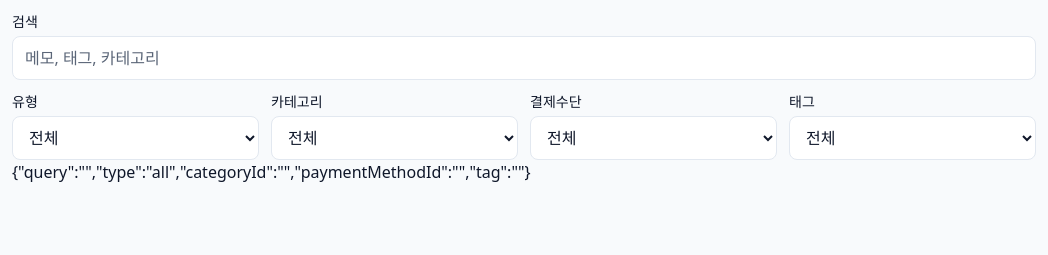
Scenario: TransactionFilterBar › 필터가 있을 때만 초기화 버튼을 보여 주고, 누르면 모두 비운다
Expected: the button "필터 초기화" is not shown
In the search field labelled "검색": coordinates (524, 58) [12, 36, 1036, 80], type "a"
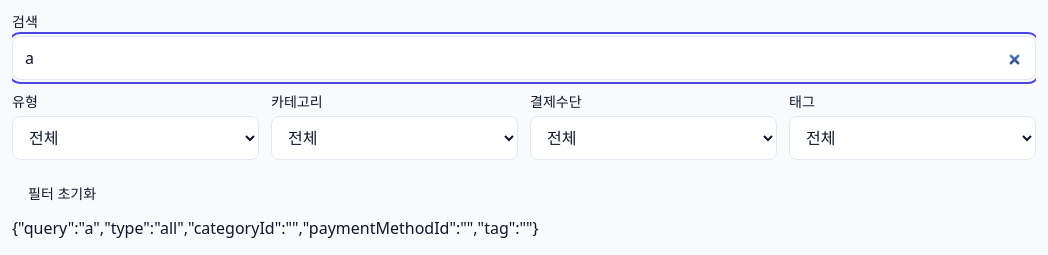
Select "수입" in the dropdown labelled "유형": coordinates (136, 138) [12, 116, 259, 160]
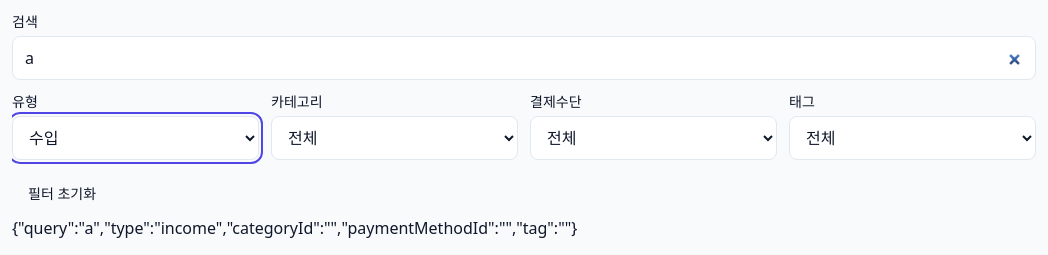
Click the button "필터 초기화": coordinates (62, 194) [12, 172, 112, 216]
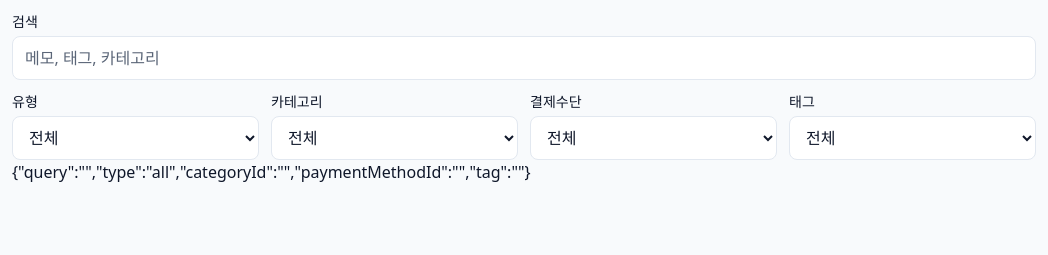
Now the button "필터 초기화" is gone
